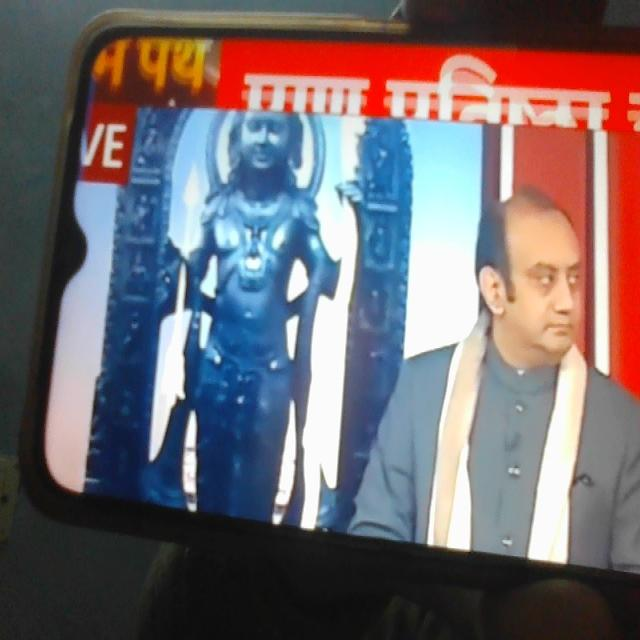fake: (475, 140, 613, 400)
